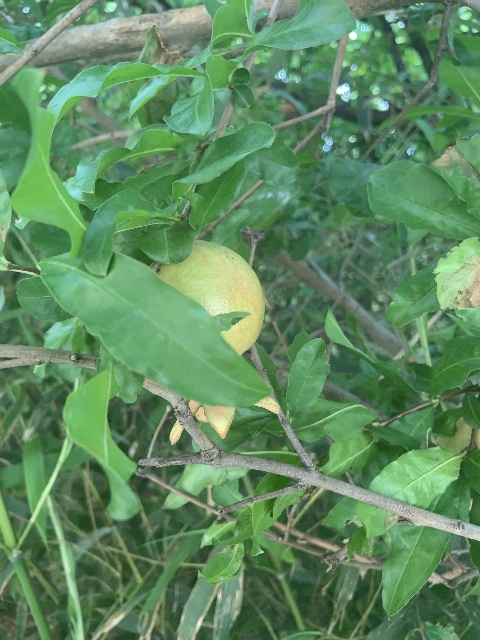mid-growth: (147, 241, 281, 445)
